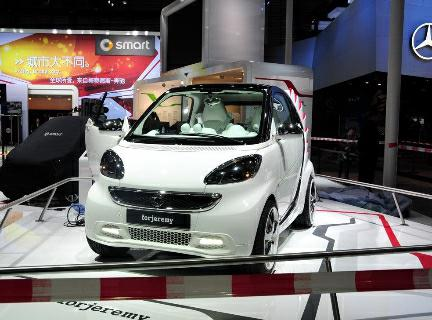smart-forjeremy: (75, 68, 317, 263)
